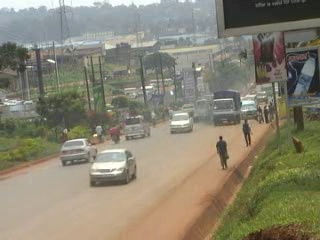Car: (88, 146, 139, 185), (58, 135, 98, 167), (122, 113, 153, 142), (169, 111, 194, 135)
Motorcycle: (108, 122, 122, 147)
